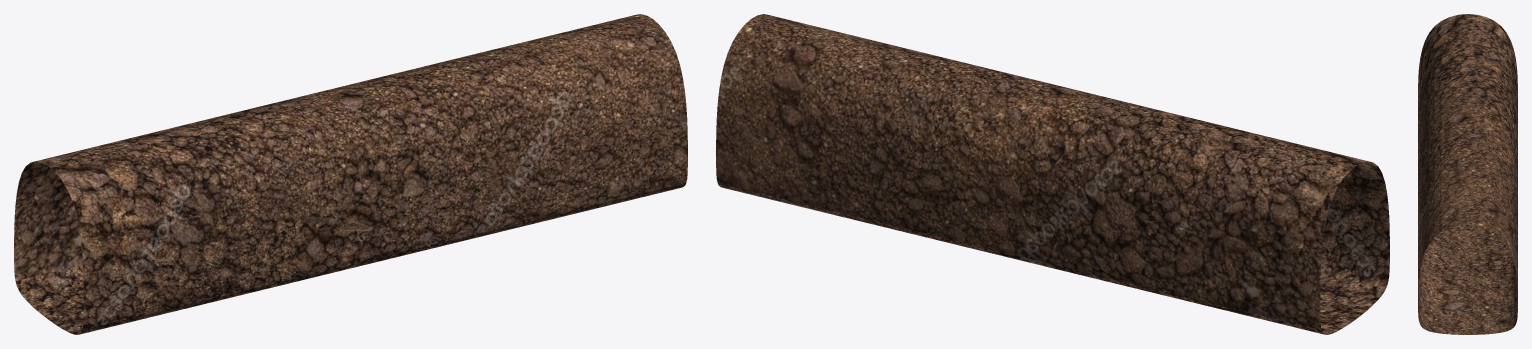
Rendered from TUNNEL.fbx.
The picture shows the model from 3 angles, left to right: view 1: azimuth 30°, elevation 25°; view 2: azimuth 150°, elevation 25°; view 3: azimuth 270°, elevation 25°; orthographic projection. The views are drawn at different scales.
Parts seen in each view (by area): view 1: Cube.003; view 2: Cube.003; view 3: Cube.003.
Part boxes in pixels (x1,y1,x2,y2): Cube.003: (14,14,687,334); Cube.003: (716,14,1389,334); Cube.003: (1418,14,1517,334).
Bounding box in the file's own units: 1852 × 450 × 370.
